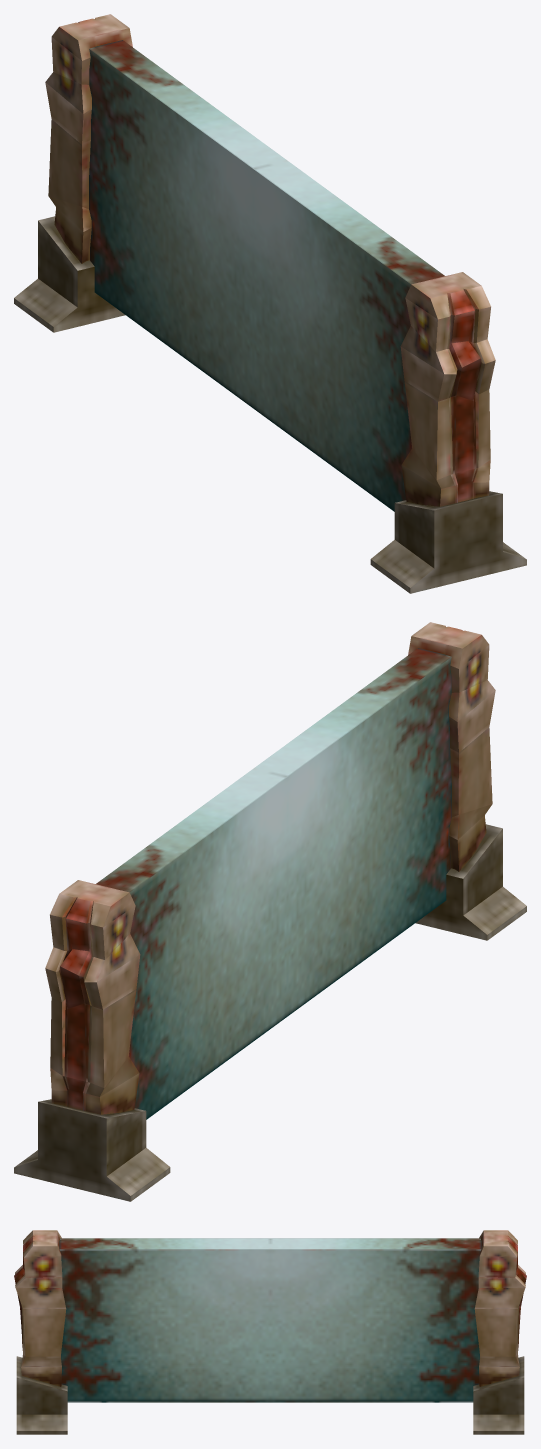
The model's file is Wall_Mirror.fbx.
3 renders of one model, top to bottom at view 1: azimuth 30°, elevation 25°; view 2: azimuth 150°, elevation 25°; view 3: azimuth 270°, elevation 25°, orthographic. The views are drawn at different scales.
Parts seen in each view (by area): view 1: Cube; view 2: Cube; view 3: Cube.
Part boxes in pixels (x1=…): Cube: x1=14, y1=14, x2=526, y2=593; Cube: x1=14, y1=622, x2=526, y2=1201; Cube: x1=14, y1=1230, x2=526, y2=1434.
Size of the model in its own units: 136 by 310 by 809.
